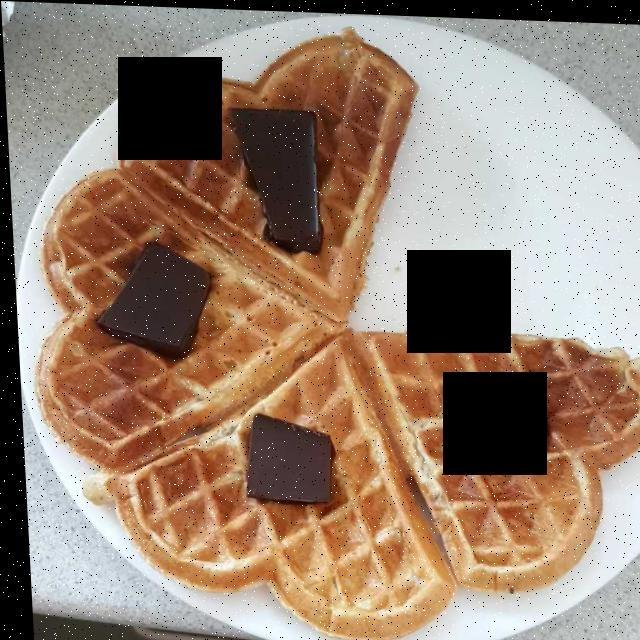chocolate: (89, 234, 221, 366), (231, 104, 320, 246), (245, 409, 337, 510)
waffle: (45, 38, 635, 623)
